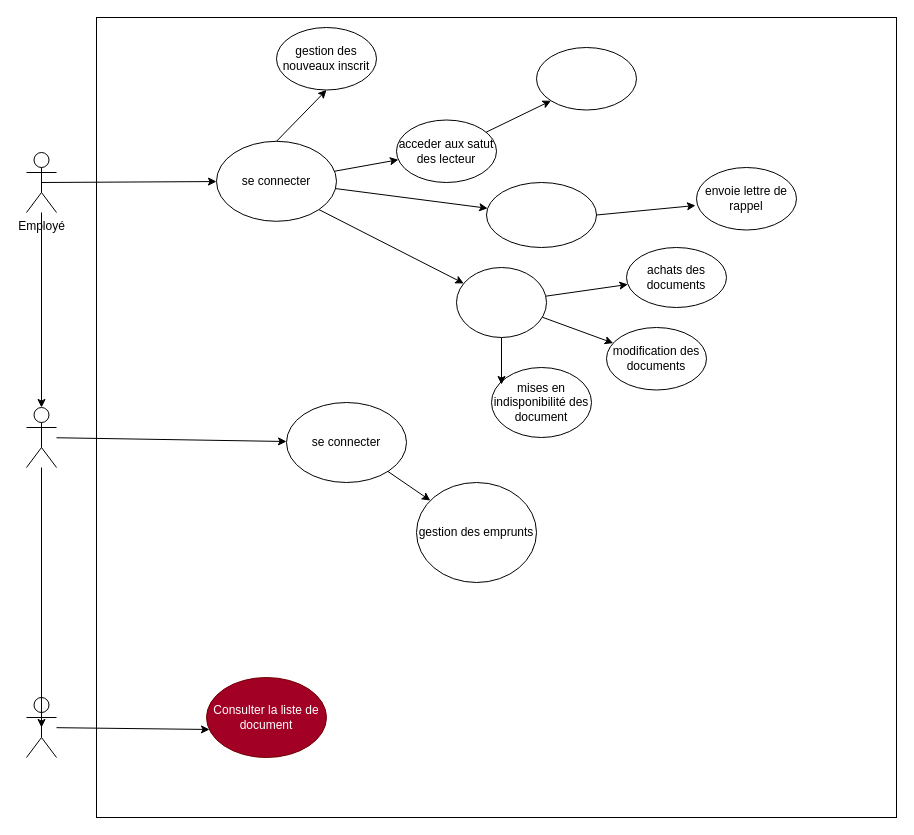
The diagram is 914 pixels wide and 835 high, and some of its shapes have lost their labels. Each missing label, with the box of its shape:
bénévole: (26, 406, 56, 468)
consulter et gerer les emprunts en cours: (486, 182, 596, 248)
gestion des document: (456, 266, 546, 338)
membre: (26, 696, 56, 758)
modifier information sur le lecteur: (536, 46, 636, 110)
